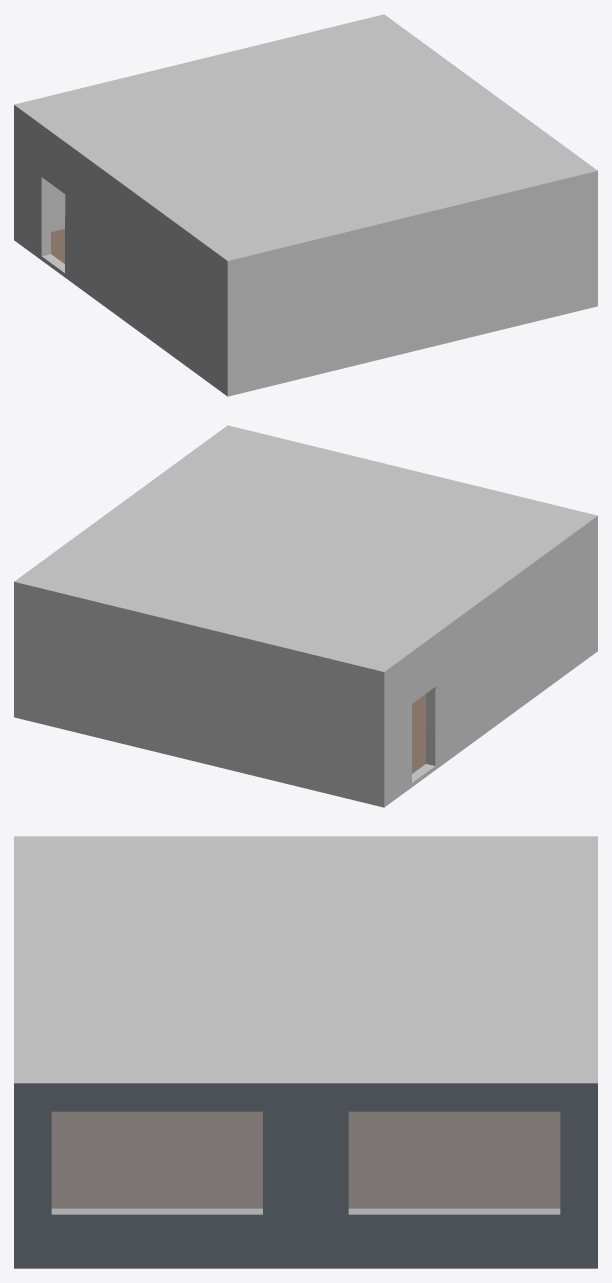
The model's file is ClassRoom.fbx.
The picture shows the model from 3 angles, top to bottom: view 1: azimuth 30°, elevation 25°; view 2: azimuth 150°, elevation 25°; view 3: azimuth 270°, elevation 25°; orthographic projection. The views are drawn at different scales.
Parts seen in each view (by area): view 1: Classroom; view 2: Classroom; view 3: Classroom.
Boxes of the visible parts, x1,y1,x2,y2 form: Classroom: [14, 14, 597, 396]; Classroom: [14, 425, 597, 807]; Classroom: [14, 836, 597, 1268].
Bounding box in the file's own units: 2000 × 2000 × 700.
